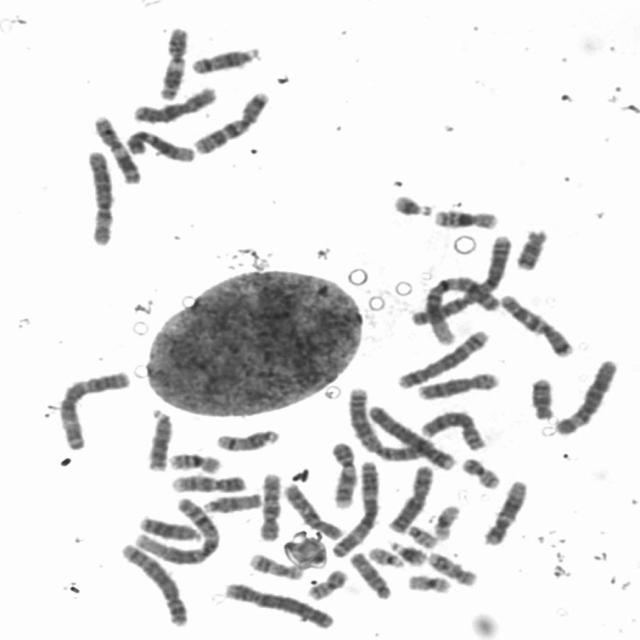A1: (130, 492, 221, 567), (416, 271, 500, 343)
A2: (412, 229, 516, 331), (341, 382, 459, 470)
A3: (54, 365, 134, 452), (328, 455, 382, 559)
B4: (362, 400, 458, 472), (220, 577, 337, 631)
B5: (116, 538, 191, 628), (391, 326, 491, 390)
C10: (280, 479, 346, 541), (254, 468, 283, 542)
C11: (90, 111, 143, 185), (154, 22, 191, 101)
C12: (478, 476, 529, 548), (121, 125, 197, 164)
C6: (551, 354, 620, 437), (82, 146, 118, 247)
C7: (190, 86, 272, 155), (496, 289, 576, 359)
C8: (418, 407, 490, 452), (412, 367, 502, 401)
C9: (326, 436, 360, 511), (167, 470, 250, 494)
D13: (142, 404, 175, 472), (134, 511, 204, 542)
D14: (188, 41, 264, 76), (210, 424, 282, 453)
D15: (346, 548, 395, 601), (198, 488, 264, 514)
E16: (428, 203, 501, 230), (165, 448, 225, 475)
E17: (422, 547, 478, 587), (244, 549, 305, 581)
E18: (512, 223, 551, 271), (526, 373, 558, 421)
F19: (430, 501, 462, 541), (403, 570, 454, 595)
F20: (303, 564, 351, 602), (457, 452, 503, 490)
G21: (386, 536, 430, 568), (388, 189, 435, 218)
G22: (403, 521, 440, 550), (365, 543, 406, 568)
X: (129, 82, 221, 125), (384, 462, 436, 534)
